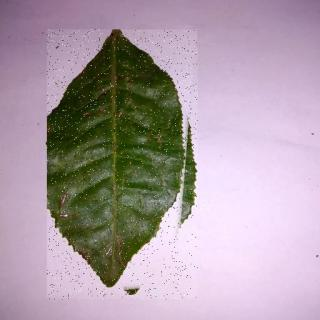Bird Eye Spot: (48, 31, 198, 301)
